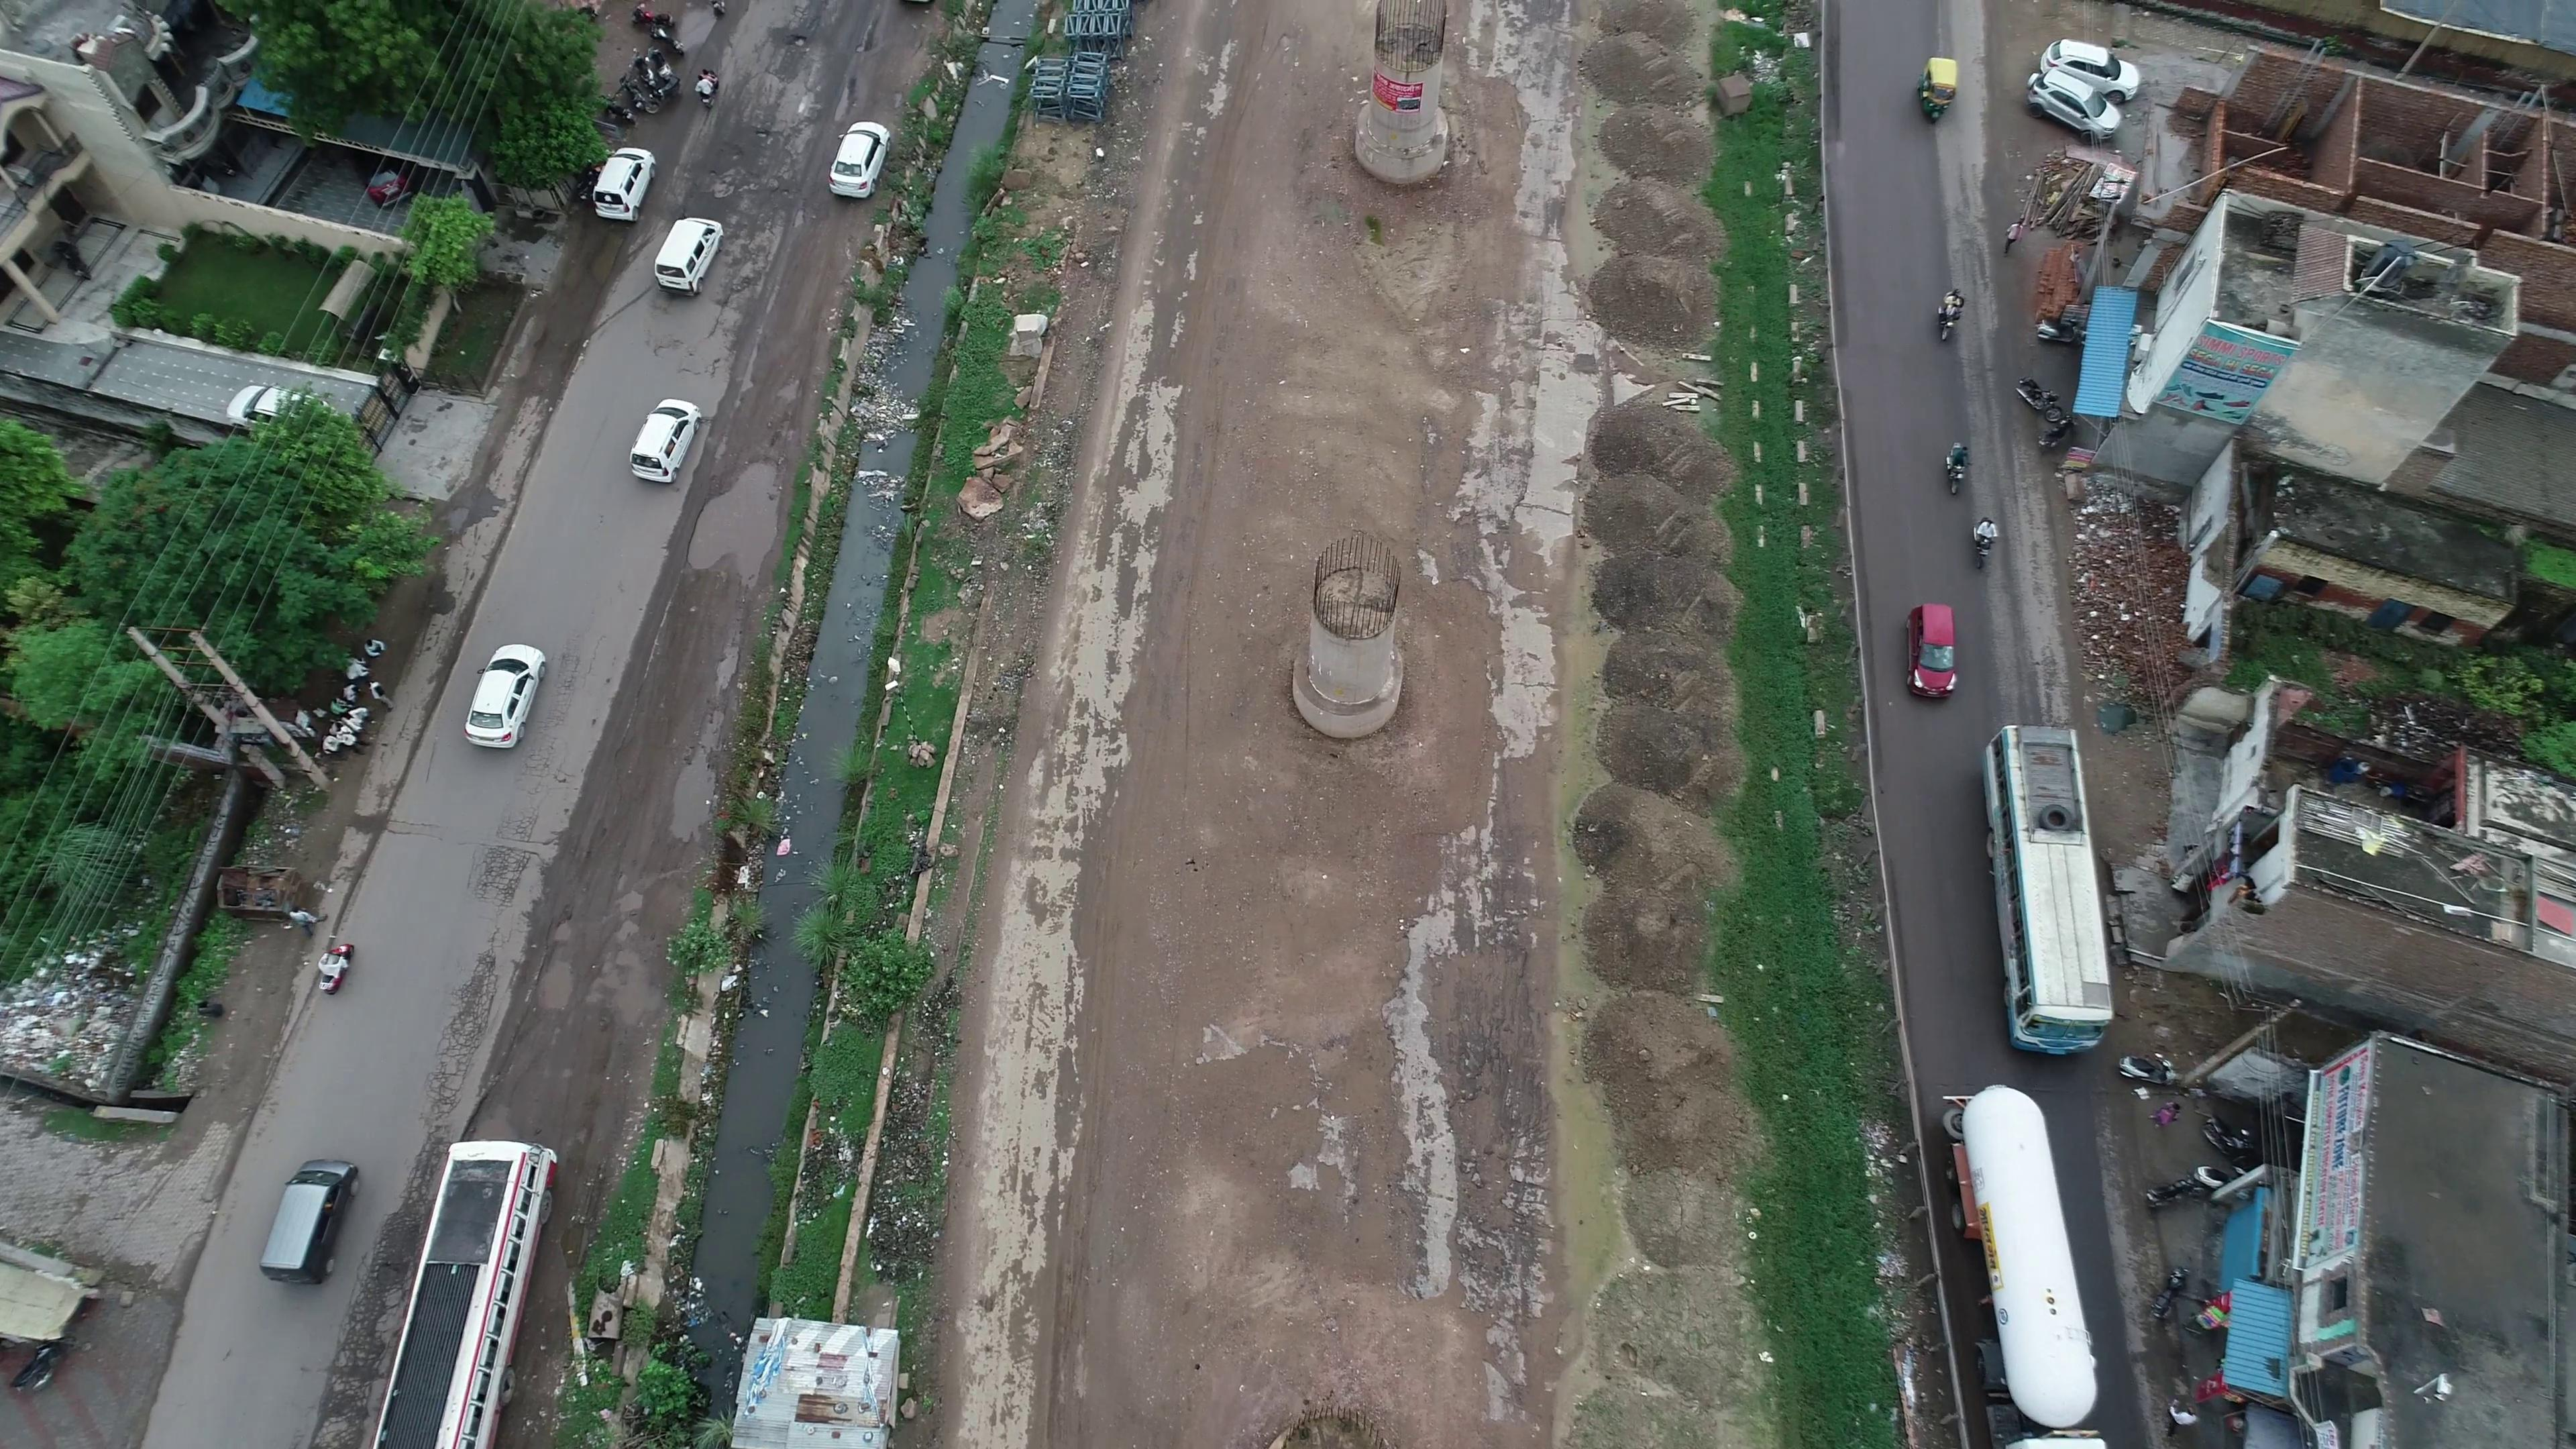Alligator_cracks: (403, 821, 531, 1109)
Potholes: (697, 108, 809, 200), (757, 23, 886, 69)
